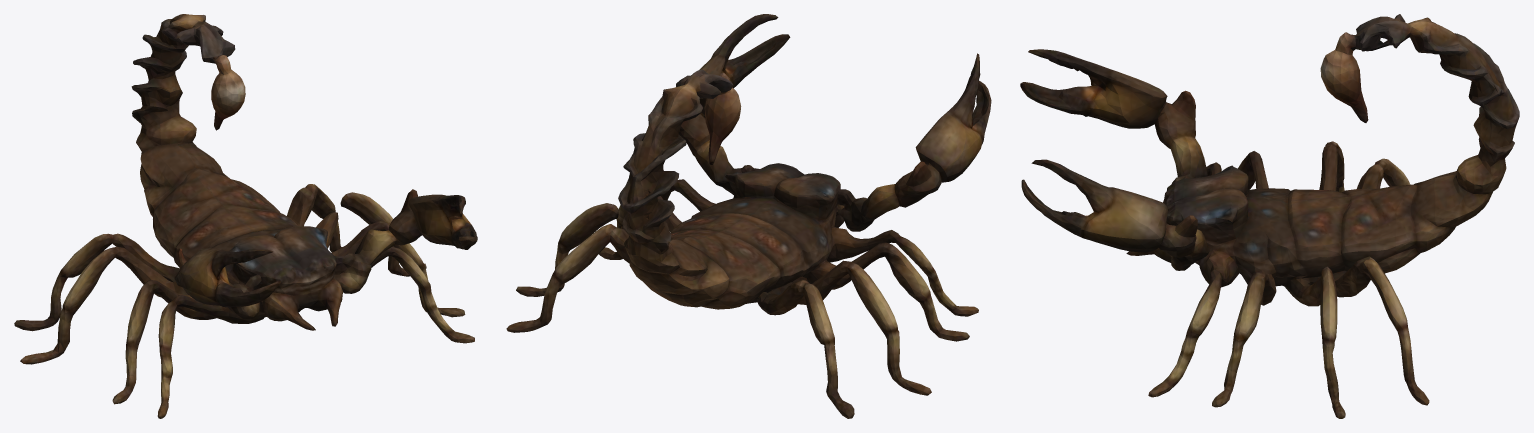
Rendered from roi-scorpion.glb.
3 renders of one model, left to right at view 1: azimuth 30°, elevation 25°; view 2: azimuth 150°, elevation 25°; view 3: azimuth 270°, elevation 25°, orthographic. The views are drawn at different scales.
Visible parts, largest first — view 1: world; view 2: world; view 3: world.
Part boxes in pixels (box(x1,y1,x2,y2)): world: box(14, 14, 477, 418); world: box(506, 14, 991, 418); world: box(1020, 14, 1519, 418).
Size of the model in its own units: 0.9985 by 0.6622 by 0.9962.
Materials: 1 (1 with a texture image).
